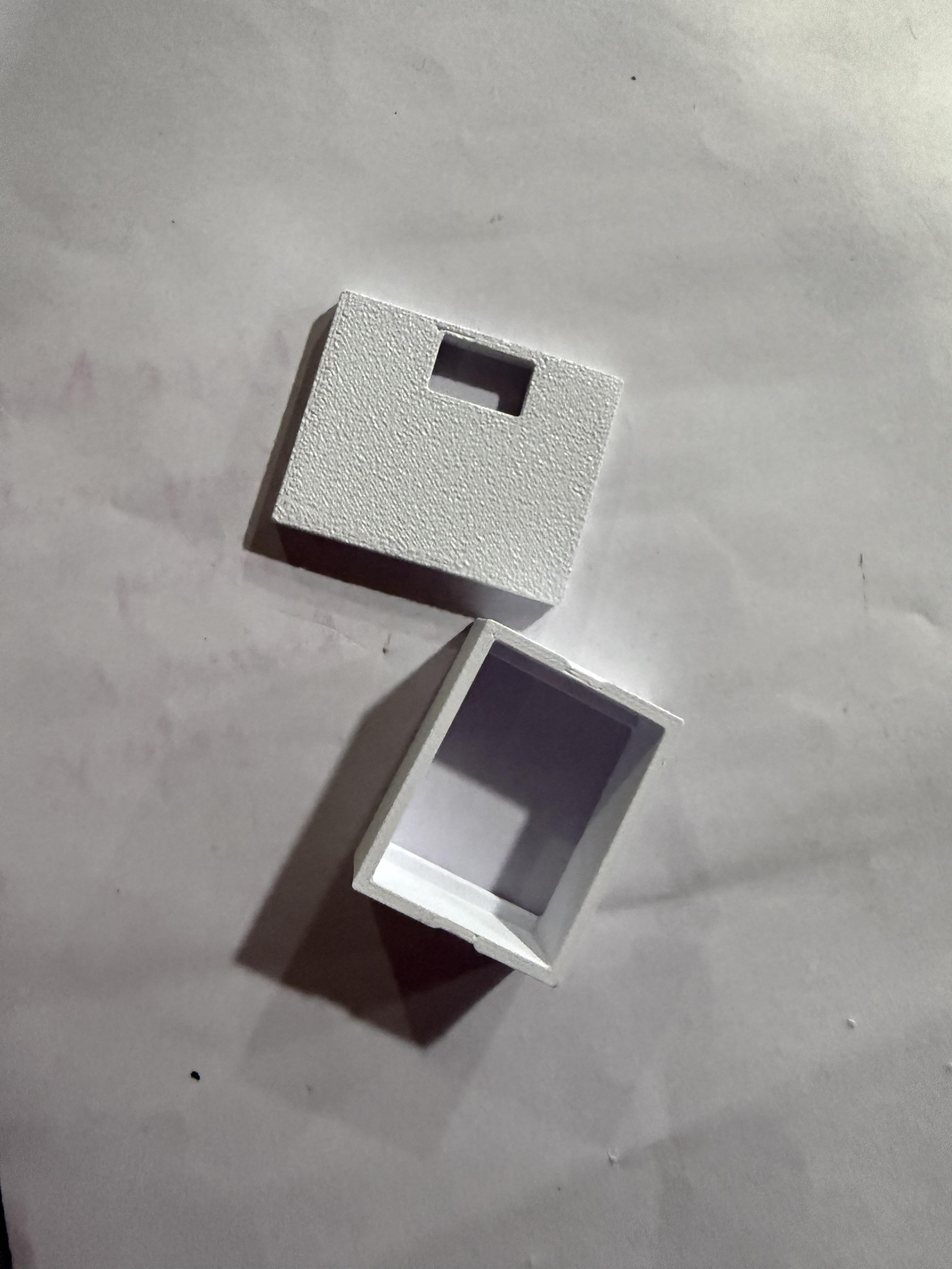enclosure: (352, 618, 684, 987), (271, 290, 625, 629)
